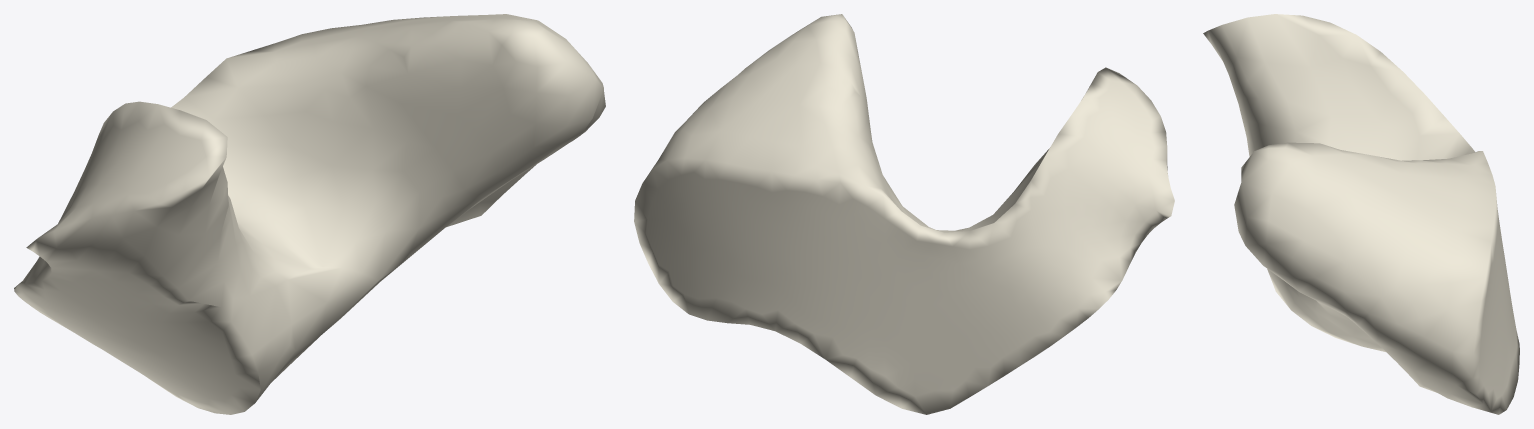
The model's file is fma86297_mm971.glb.
The picture shows the model from 3 angles, left to right: view 1: azimuth 30°, elevation 25°; view 2: azimuth 150°, elevation 25°; view 3: azimuth 270°, elevation 25°; orthographic projection. The views are drawn at different scales.
Parts seen in each view (by area): view 1: FMA86297_MM971; view 2: FMA86297_MM971; view 3: FMA86297_MM971.
Boxes of the visible parts, left/top/right/bottom form: FMA86297_MM971: left=14, top=14, right=605, bottom=414; FMA86297_MM971: left=634, top=14, right=1174, bottom=414; FMA86297_MM971: left=1203, top=14, right=1519, bottom=414.
Size of the model in its own units: 0.0221 by 0.013 by 0.0122.
